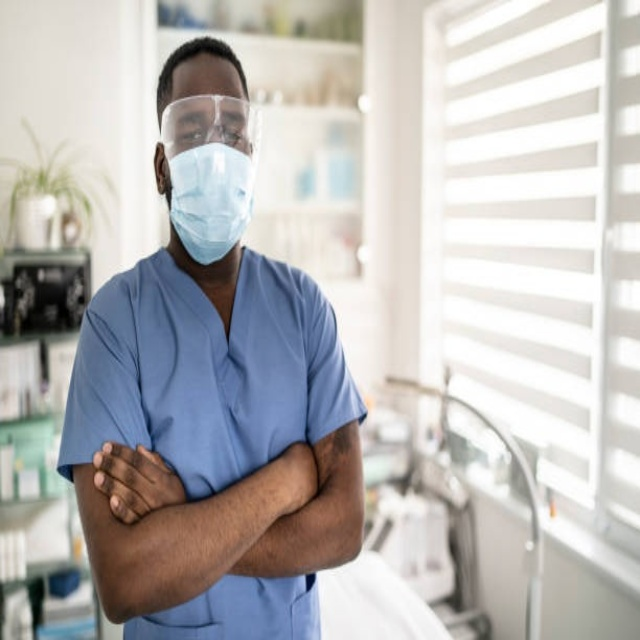Gafas: (159, 93, 261, 159)
Mascara: (166, 138, 255, 268)
Sin_guantes: (93, 439, 182, 525)
